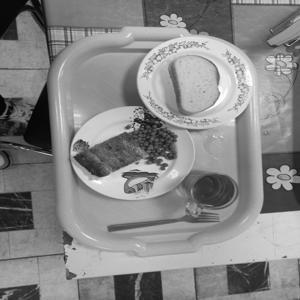bread: (171, 52, 223, 123)
casserole: (62, 117, 181, 189)
tea: (169, 169, 248, 212)
